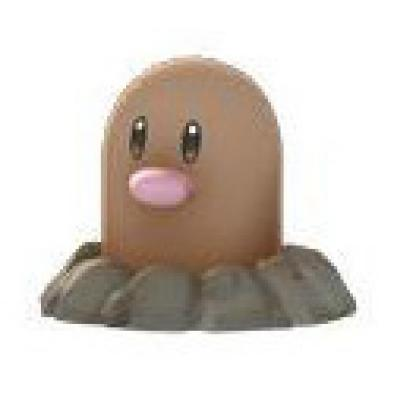Diglett: (41, 36, 365, 337)
